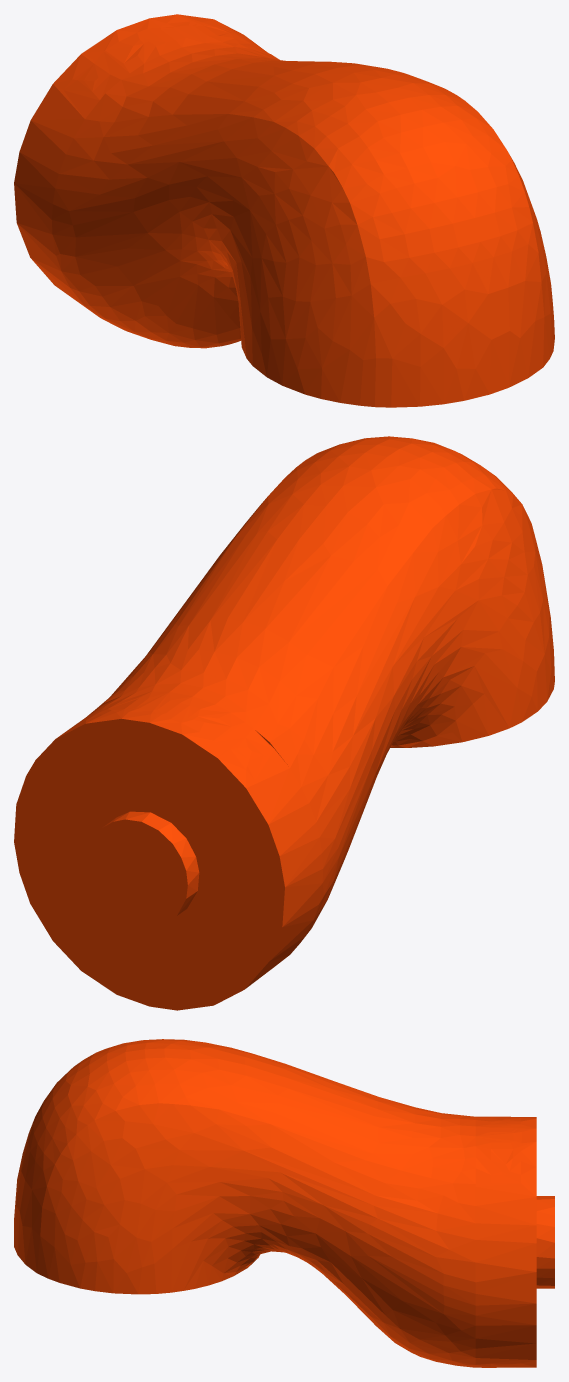
3 views of the same model, one above another, from view 1: azimuth 30°, elevation 25°; view 2: azimuth 150°, elevation 25°; view 3: azimuth 270°, elevation 25° (orthographic). The views are drawn at different scales.
Parts seen in each view (by area): view 1: Link_3; view 2: Link_3; view 3: Link_3.
Part boxes in pixels (x1=…): Link_3: x1=14, y1=14, x2=554, y2=407; Link_3: x1=14, y1=436, x2=554, y2=1010; Link_3: x1=14, y1=1039, x2=554, y2=1367.
Size of the model in its own units: 0.1361 by 0.1826 by 0.2933.
1 material, 1 textured.
